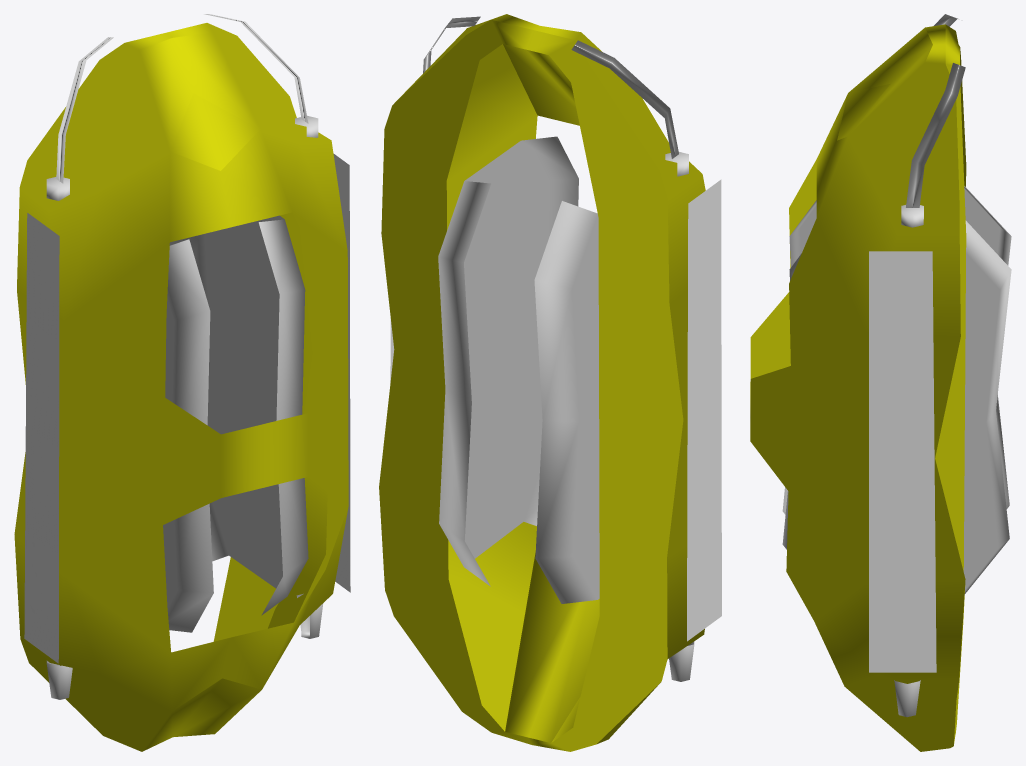
The model's file is Shared_Caliper_Car_Chevrolet_CorvetteZR1_2019_Caliper03_L_FL.fbx.
3 views of the same model, side by side, from view 1: azimuth 30°, elevation 25°; view 2: azimuth 150°, elevation 25°; view 3: azimuth 270°, elevation 25° (orthographic). The views are drawn at different scales.
Parts seen in each view (by area): view 1: Car_Chevrolet_CorvetteZ06_2013_Caliper03_L_FL 1; view 2: Car_Chevrolet_CorvetteZ06_2013_Caliper03_L_FL 1; view 3: Car_Chevrolet_CorvetteZ06_2013_Caliper03_L_FL 1.
Part boxes in pixels (<box>): Car_Chevrolet_CorvetteZ06_2013_Caliper03_L_FL 1: <box>14,14,350,751</box>; Car_Chevrolet_CorvetteZ06_2013_Caliper03_L_FL 1: <box>379,14,721,751</box>; Car_Chevrolet_CorvetteZ06_2013_Caliper03_L_FL 1: <box>750,14,1011,751</box>.
Bounding box in the file's own units: 0.143 × 0.3305 × 0.1127.
